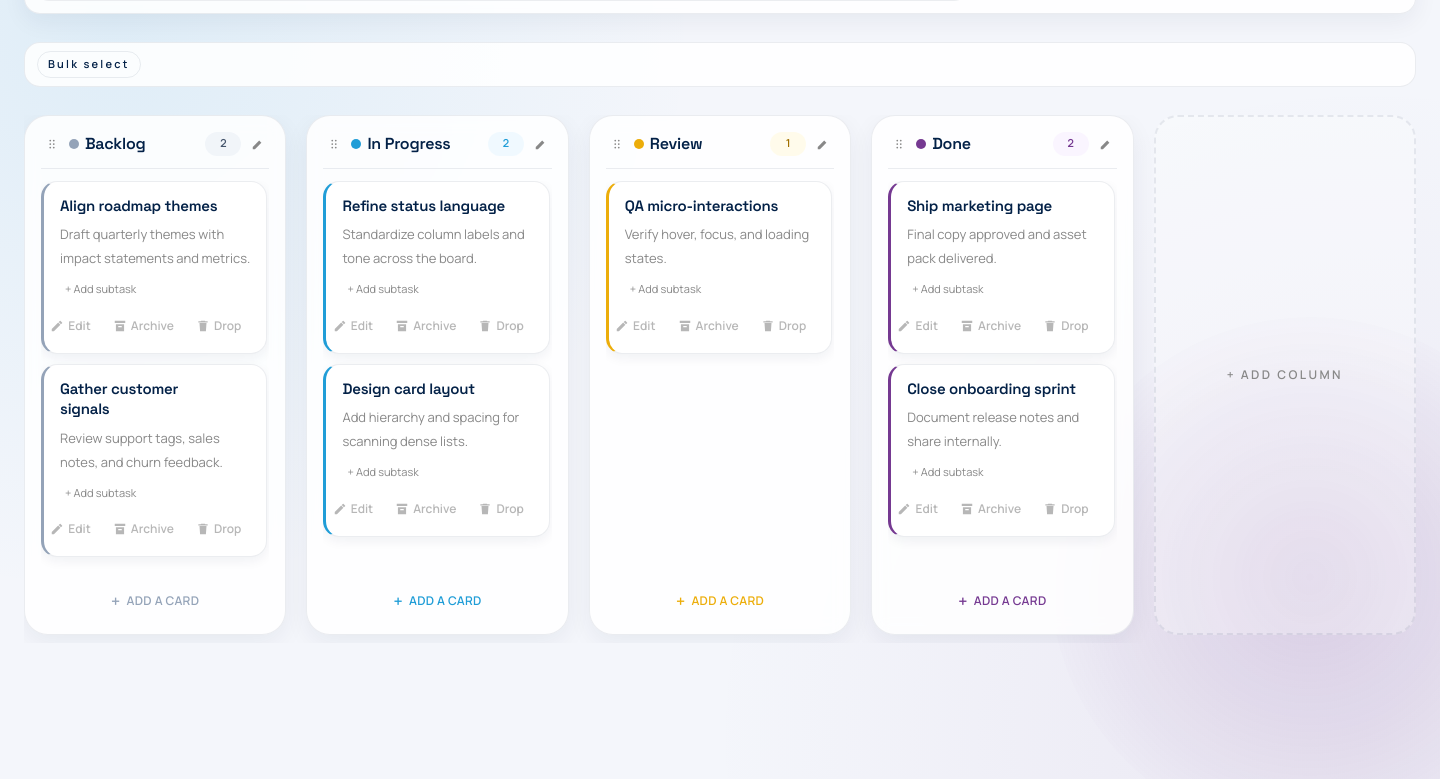
Test: KanbanBoard › adds a new column from the trailing tile
The width and height of the screenshot is (1440, 779).
(page scrolled)
Click the button with test id "add-column-button" at (1285, 374), box [1168,128,1402,620]
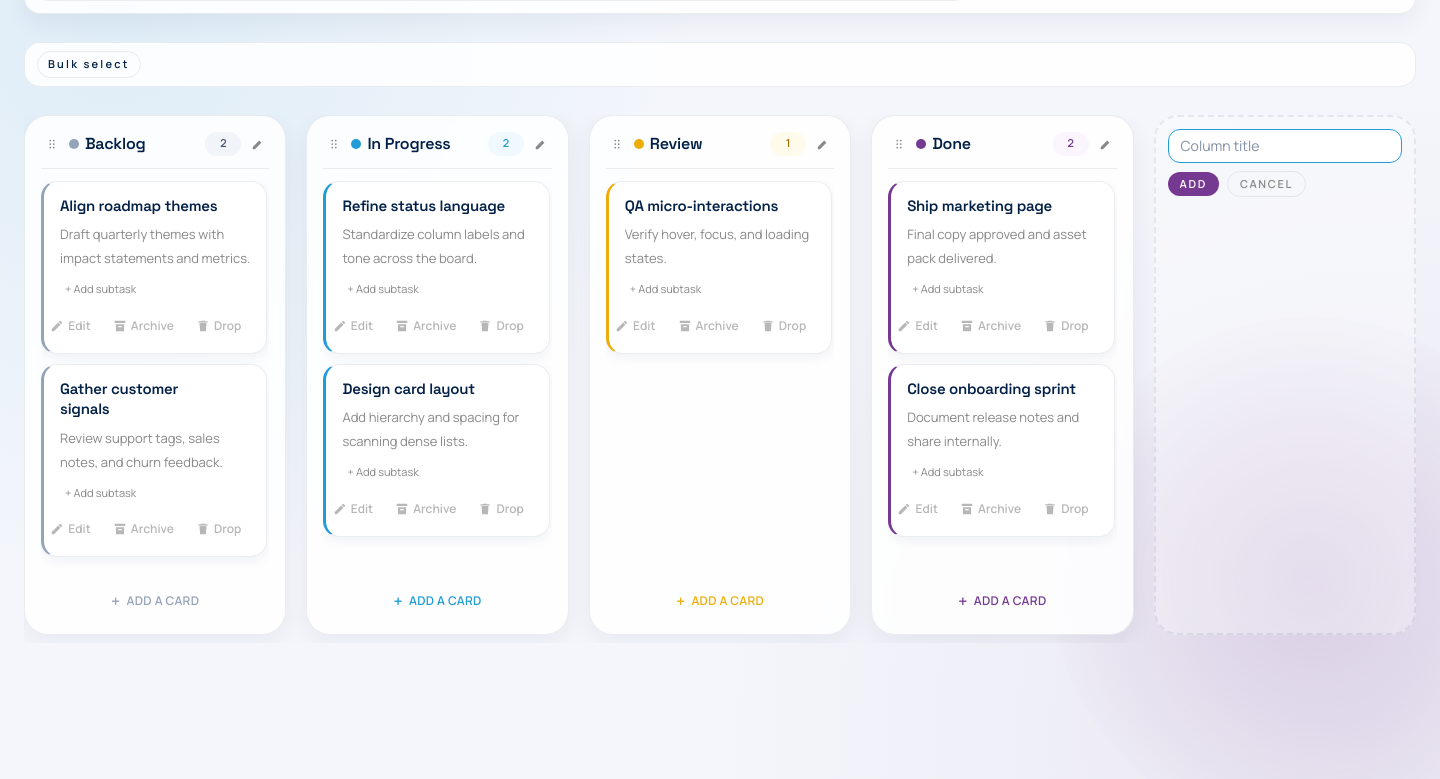
Type "Blocked" into the field named "New column title" at (1285, 146), box [1168,128,1402,162]
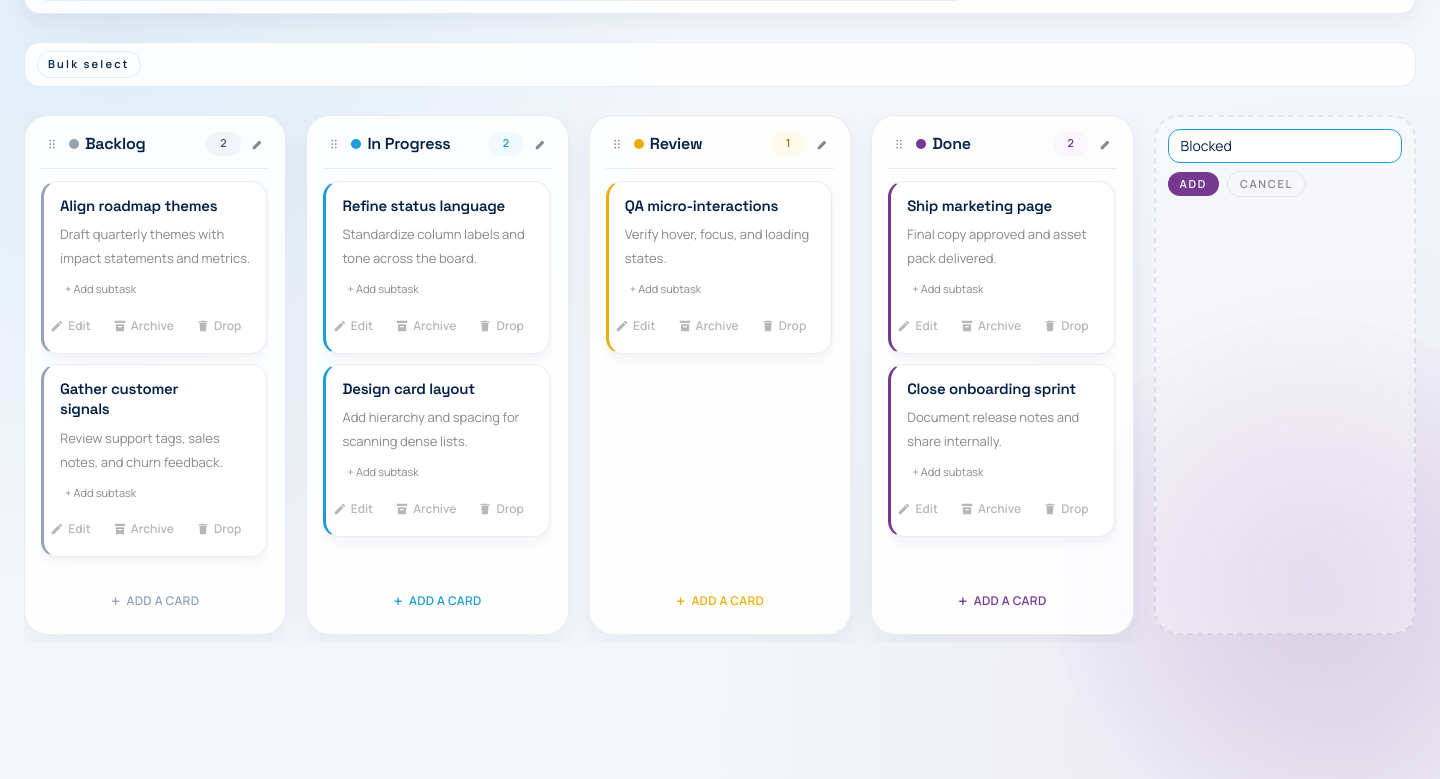
Click the button "Add" at (1193, 184), box [1168,172,1219,196]
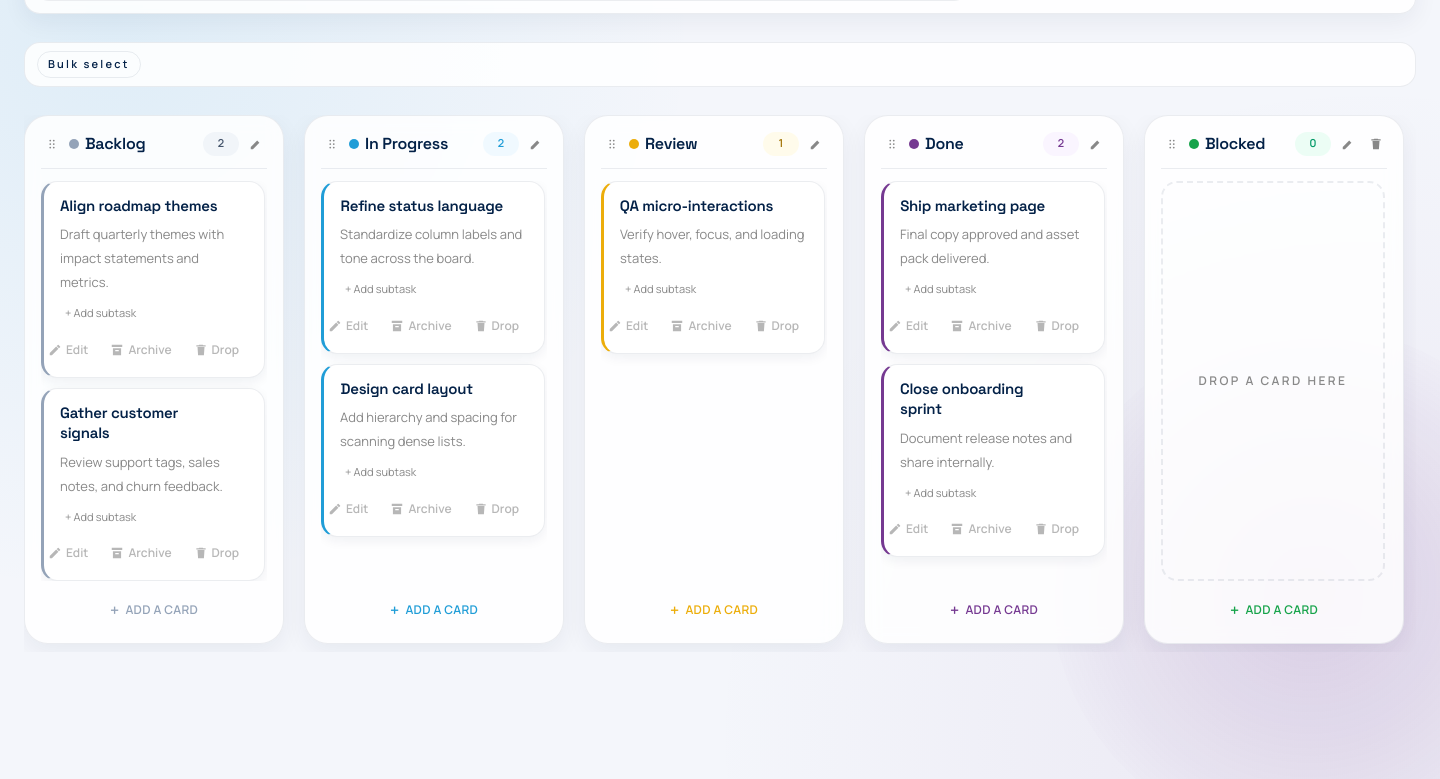
Result: the 5th field showing "Blocked" is shown at [1205,132,1289,156]
